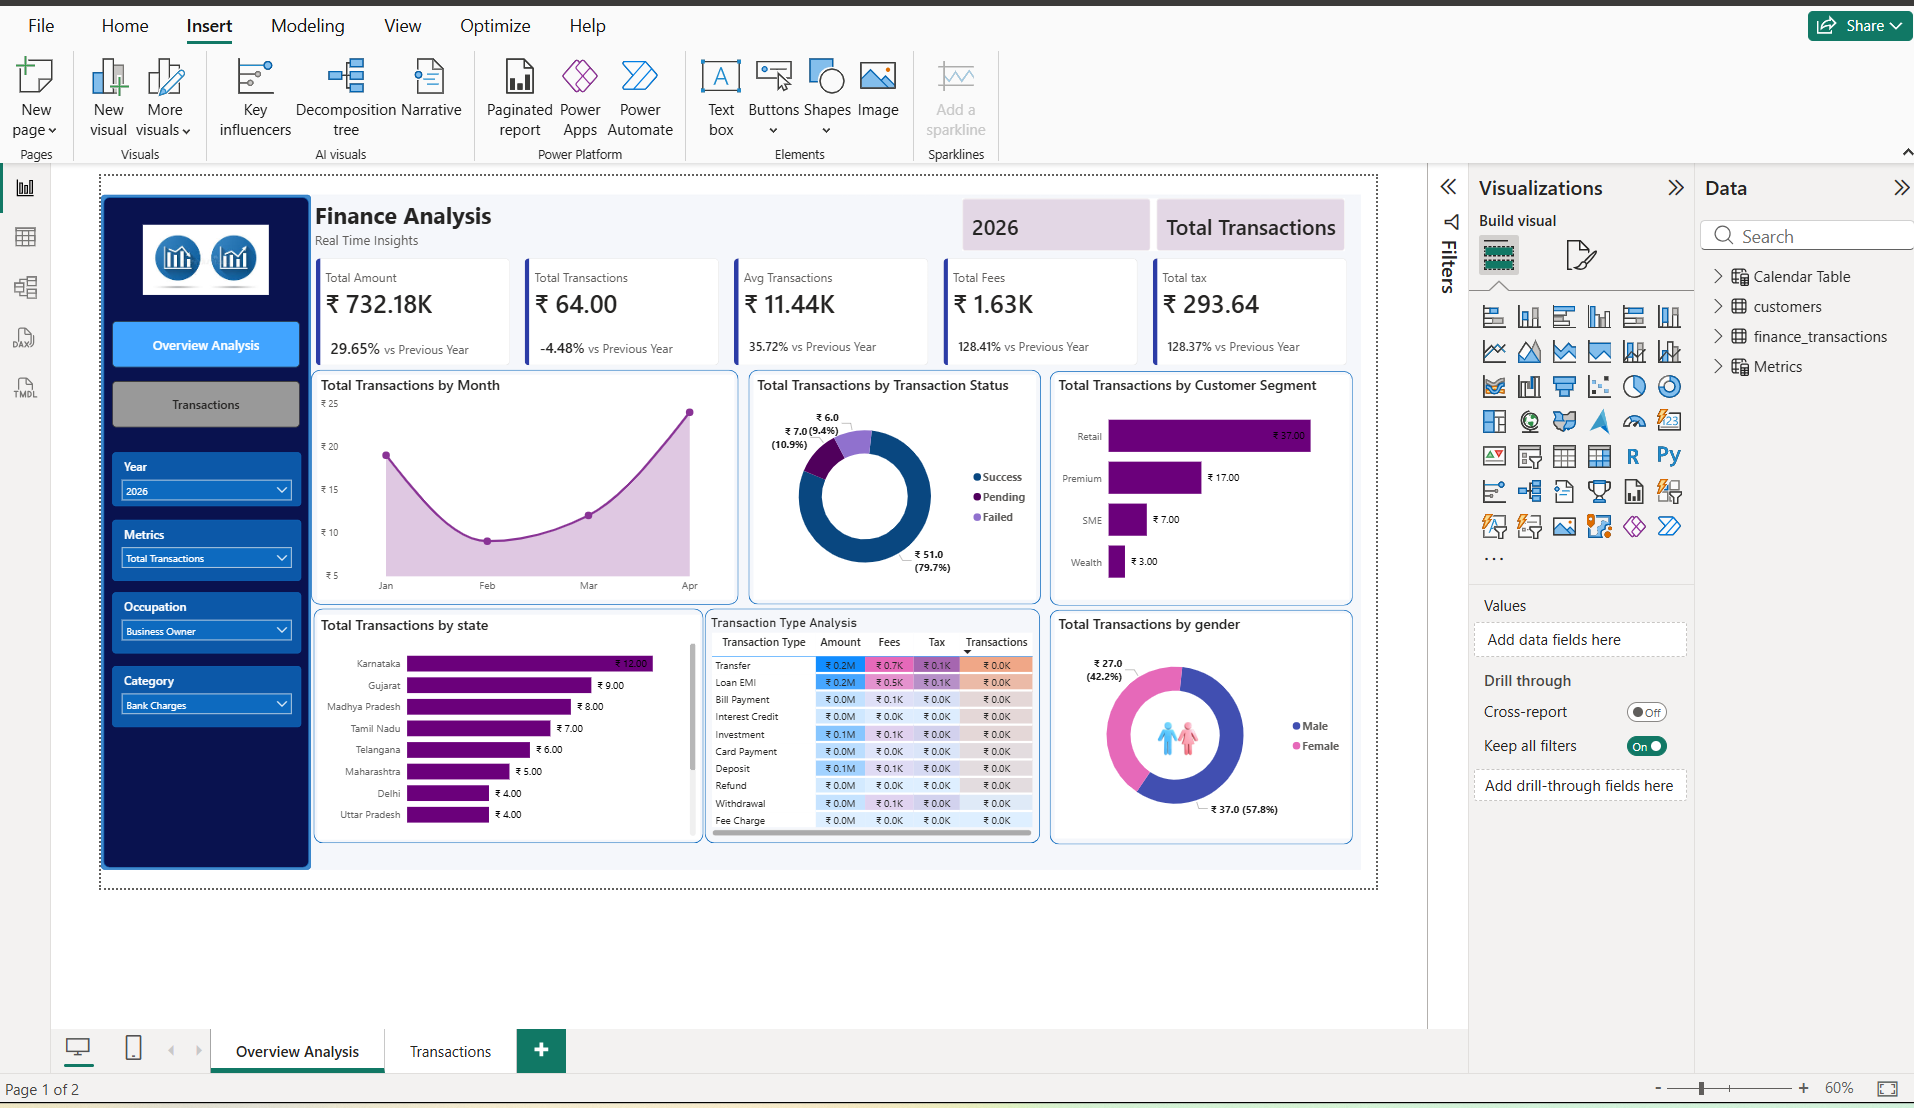

The dashboard page shown, as its layout file describes it:
{"tool":"powerbi","page":{"name":"Overview Analysis","canvas":[1700,950],"ordinal":0},"visuals":[{"type":"shape","box":[280,25,1400,900],"z":0},{"type":"shape","box":[0,25,280,900],"z":1000},{"type":"cardVisual","fields":{"Data":["finance_transactions.Dashboard Title"]},"box":[280,25.7,332.9,77.1],"z":2000},{"type":"cardVisual","fields":{"Data":["finance_transactions.Total Amount","finance_transactions.Total Transactions","finance_transactions.Avg Transactions","finance_transactions.Total Fees","finance_transactions.Total tax"]},"box":[280,102.9,1390,155.7],"z":3000},{"type":"slicer","fields":{"Values":["Calendar Table.Year"]},"box":[15,368.3,251.7,71.7],"z":4000},{"type":"slicer","fields":{"Values":["Metrics.Metrics"]},"box":[15,458.3,251.7,81.7],"z":5000},{"type":"shape","box":[280,258.3,570,313.3],"z":6000},{"type":"areaChart","fields":{"Y":["finance_transactions.Total Transactions"],"Category":["Calendar Table.Month"]},"box":[288.6,265.7,555.7,300],"z":7000},{"type":"cardVisual","fields":{"Data":["finance_transactions.Selected Year","finance_transactions.Selected Metrics"]},"box":[1143.3,25,521.7,80],"z":8000},{"type":"shape","box":[862.9,258.6,390,312.9],"z":9000},{"type":"donutChart","fields":{"Y":["finance_transactions.Total Transactions"],"Category":["finance_transactions.transaction_status"]},"box":[870,265.7,377.1,300],"z":10000},{"type":"shape","box":[1265.7,260,404.3,312.9],"z":11000},{"type":"barChart","fields":{"Y":["finance_transactions.Total Transactions"],"Category":["customers.customer_segment"]},"box":[1271.4,265.7,392.9,300],"z":12000},{"type":"shape","box":[282.9,577.1,520,312.9],"z":13000},{"type":"barChart","fields":{"Y":["finance_transactions.Total Transactions"],"Category":["customers.state"]},"box":[288.6,584.3,510,300],"z":14000},{"type":"shape","box":[805.7,577.1,447.1,312.9],"z":15000},{"type":"tableEx","title":"Transaction Type Analysis","fields":{"Values":["finance_transactions.transaction_type","finance_transactions.Total Amount","finance_transactions.Total Fees","finance_transactions.Total tax","finance_transactions.Total Transactions"]},"box":[808.6,584.3,438.6,300],"z":16000},{"type":"shape","box":[1265.7,578.6,404.3,312.9],"z":17000},{"type":"donutChart","fields":{"Y":["finance_transactions.Total Transactions"],"Category":["customers.gender"]},"box":[1271.7,583.3,393.3,300],"z":18000},{"type":"slicer","fields":{"Values":["customers.occupation"]},"box":[15,555,251.7,81.7],"z":19000},{"type":"slicer","fields":{"Values":["finance_transactions.merchant_category"]},"box":[15,653.3,251.7,81.7],"z":20000},{"type":"pageNavigator","box":[15,193.3,250,143.3],"z":21000},{"type":"image","box":[1405,715,63.3,70],"z":22000},{"type":"image","box":[55,65,170,93.3],"z":23000}]}

Visuals, with their boxes on the page's 1700x950 design canvas (x1, y1, x2, y2). These are canvas units, not pixel positions in the 1914x1108 screenshot, which may show the page scaled, cropped or inside an application window:
shape: (280,25,1680,925)
shape: (0,25,280,925)
cardVisual - finance_transactions.Dashboard Title: (280,26,613,103)
cardVisual - finance_transactions.Total Amount x finance_transactions.Total Transactions: (280,103,1670,259)
slicer - Calendar Table.Year: (15,368,267,440)
slicer - Metrics.Metrics: (15,458,267,540)
shape: (280,258,850,572)
areaChart - finance_transactions.Total Transactions x Calendar Table.Month: (289,266,844,566)
cardVisual - finance_transactions.Selected Year x finance_transactions.Selected Metrics: (1143,25,1665,105)
shape: (863,259,1253,572)
donutChart - finance_transactions.Total Transactions x finance_transactions.transaction_status: (870,266,1247,566)
shape: (1266,260,1670,573)
barChart - finance_transactions.Total Transactions x customers.customer_segment: (1271,266,1664,566)
shape: (283,577,803,890)
barChart - finance_transactions.Total Transactions x customers.state: (289,584,799,884)
shape: (806,577,1253,890)
"Transaction Type Analysis" tableEx: (809,584,1247,884)
shape: (1266,579,1670,892)
donutChart - finance_transactions.Total Transactions x customers.gender: (1272,583,1665,883)
slicer - customers.occupation: (15,555,267,637)
slicer - finance_transactions.merchant_category: (15,653,267,735)
pageNavigator: (15,193,265,337)
image: (1405,715,1468,785)
image: (55,65,225,158)
